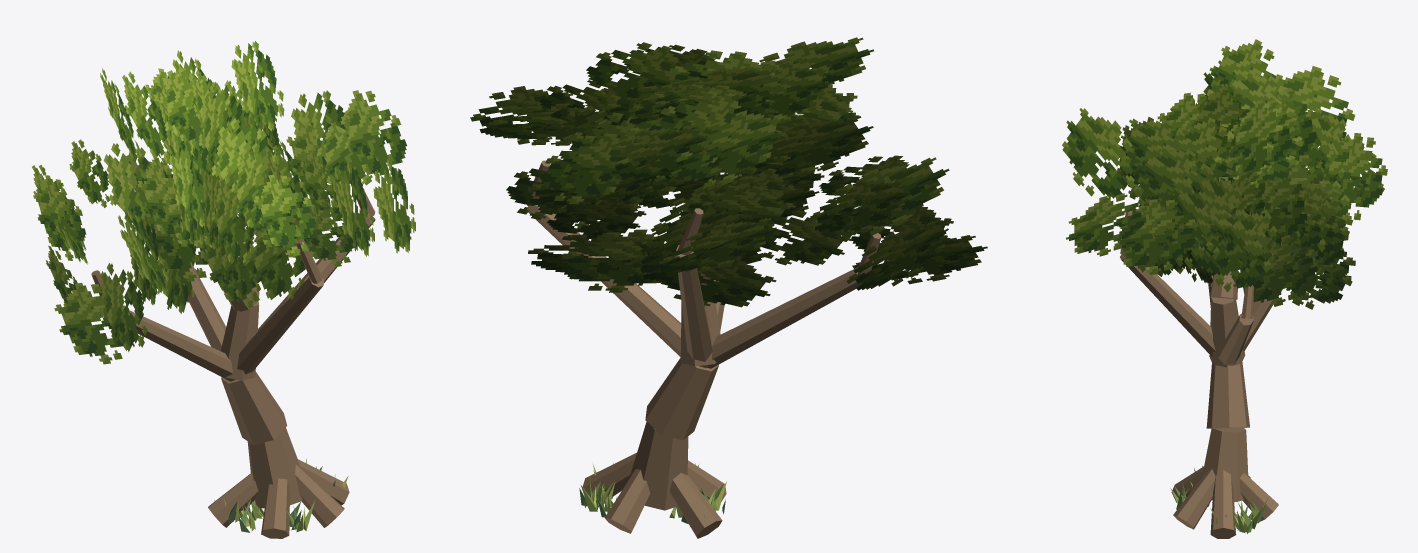
The model's file is tree.glb.
3 renders of one model, left to right at view 1: azimuth 30°, elevation 25°; view 2: azimuth 150°, elevation 25°; view 3: azimuth 270°, elevation 25°, orthographic. The views are drawn at different scales.
Parts seen in each view (by area): view 1: tree; view 2: tree; view 3: tree.
Part boxes in pixels (bbox=[...]): tree: bbox=[32, 41, 415, 538]; tree: bbox=[470, 37, 987, 538]; tree: bbox=[1062, 39, 1387, 538].
Size of the model in its own units: 3.3 by 3.6 by 2.76.
Materials: 7 (3 with a texture image).
